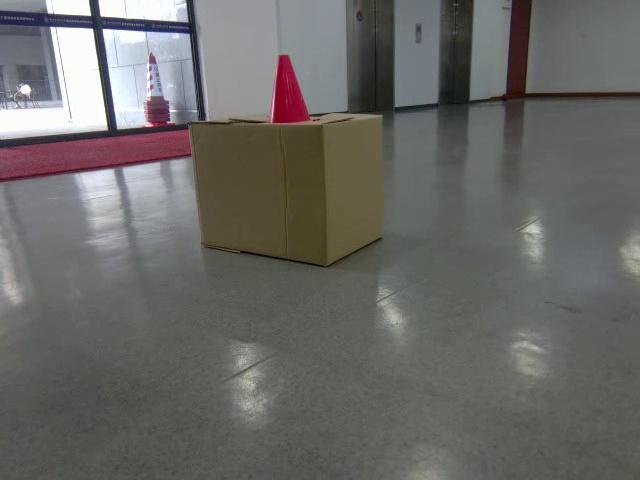red_barrel: (265, 53, 320, 124)
